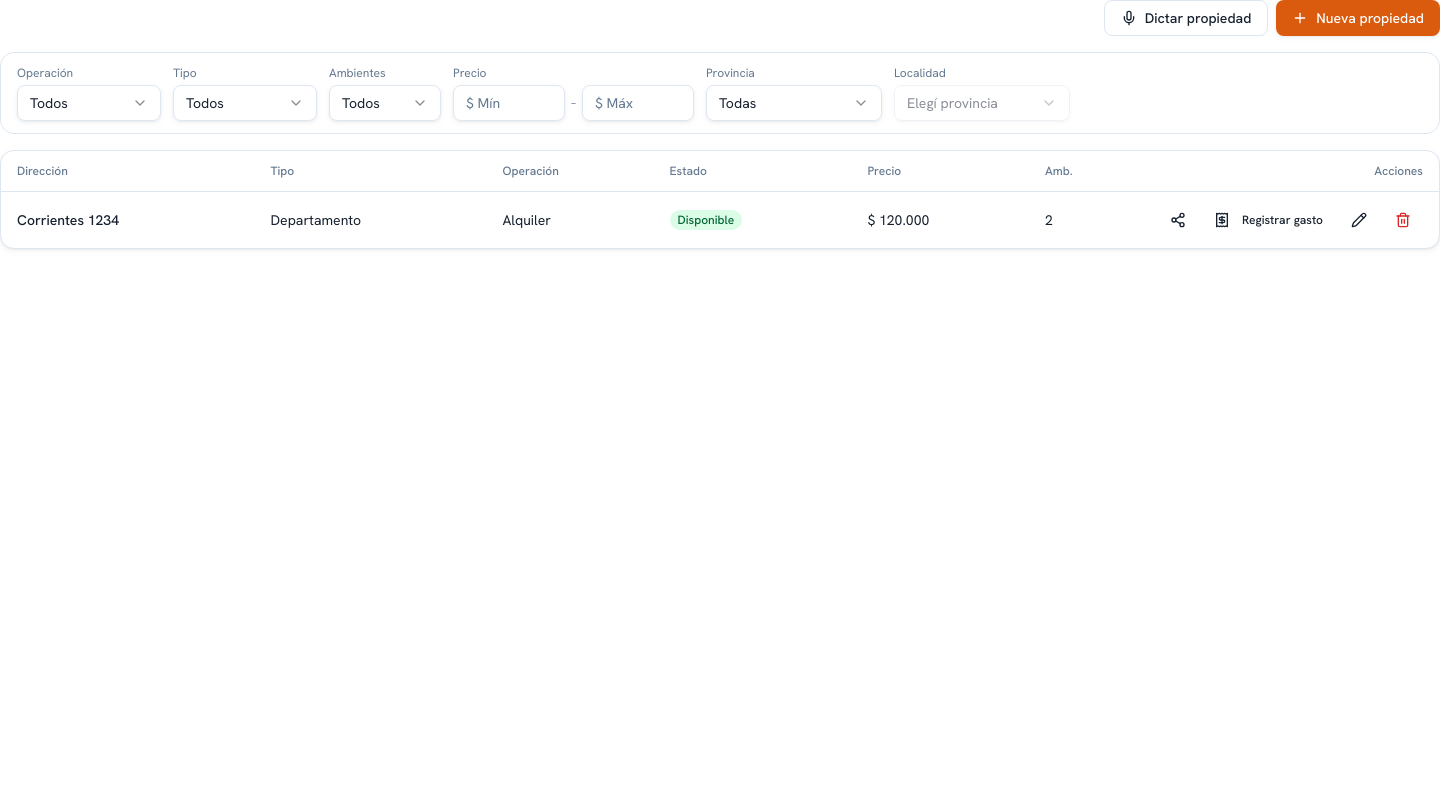
PropertiesList — Delete row action › clicking Eliminar shows the confirm AlertDialog with Spanish copy
Click the button named "eliminar" at x=1403, y=220, box [1383,204,1423,236]
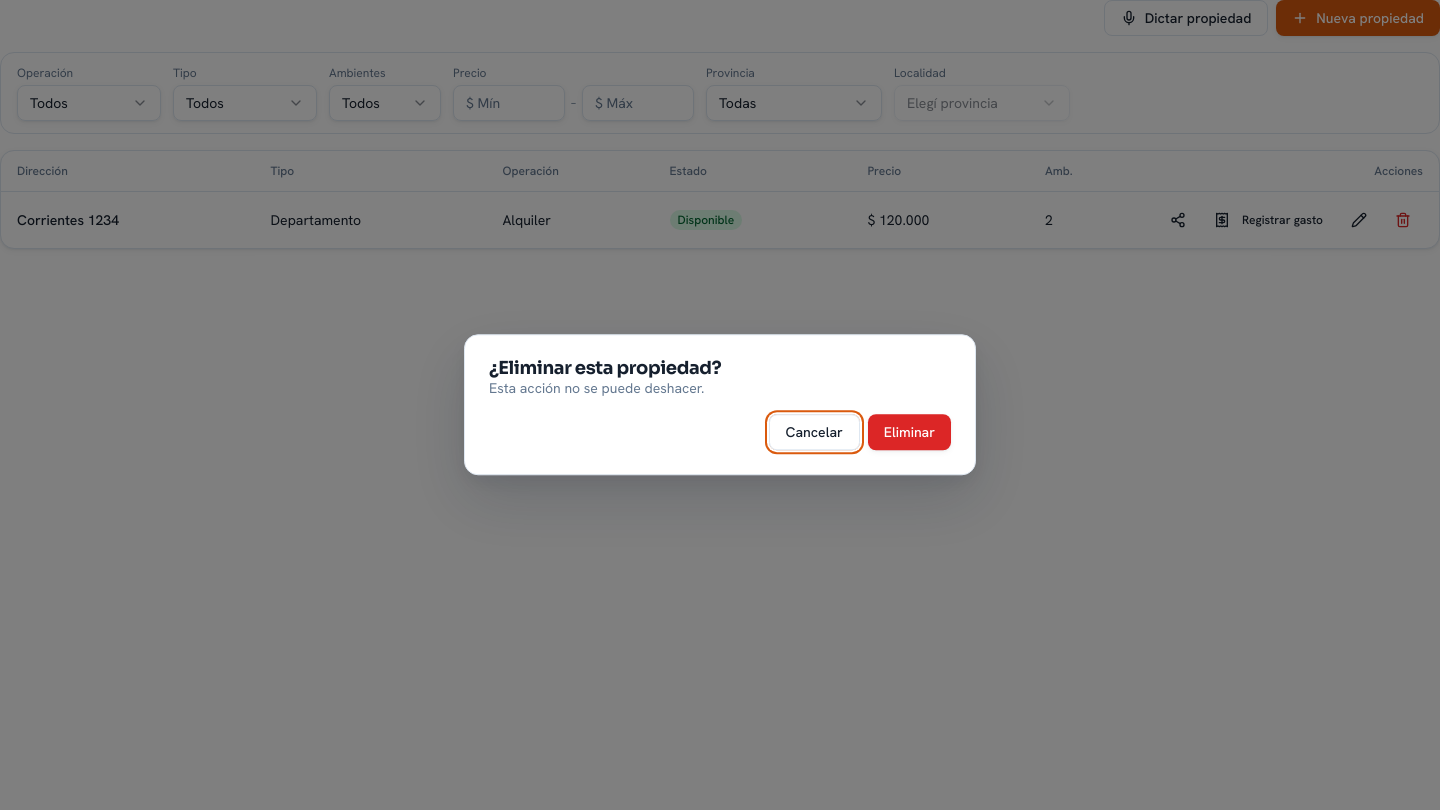
Expected: the dialog is shown, [464,334,976,476]
Expected: the heading "¿Eliminar esta propiedad?" is shown, [489,357,721,379]
Expected: the text "Esta acción no se puede deshacer." is shown, [489,380,704,398]
